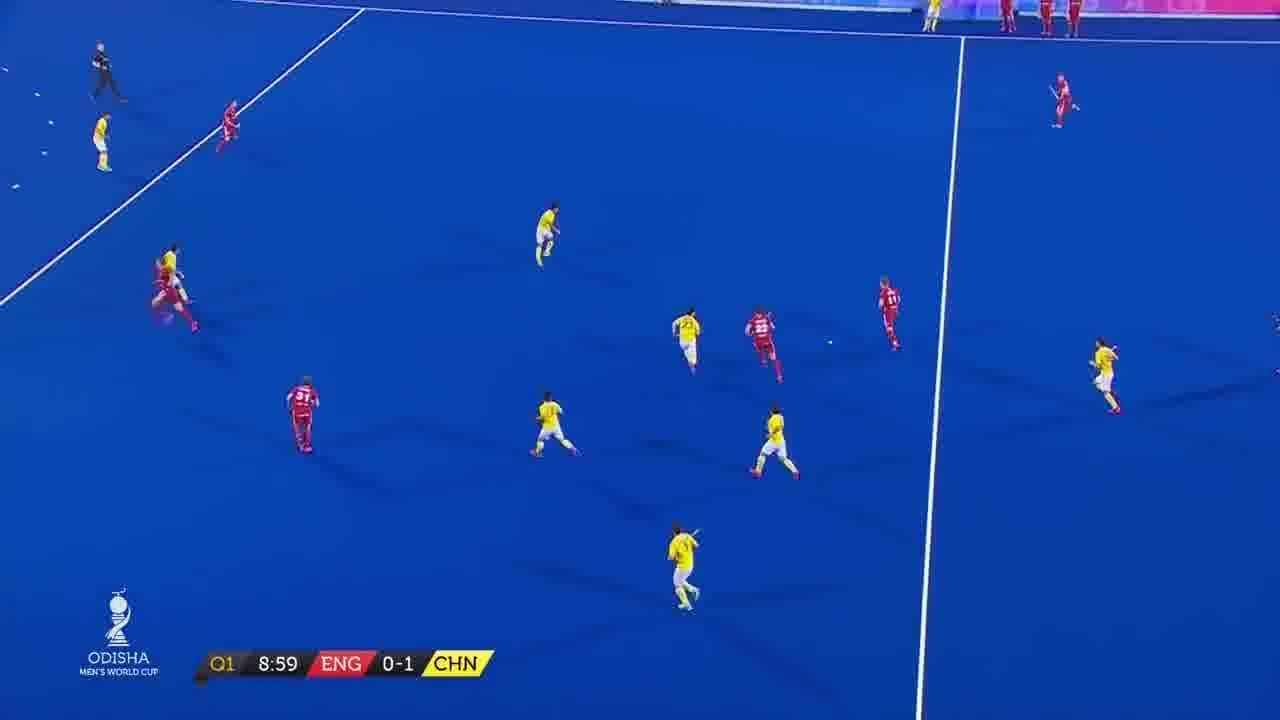ball: (824, 335, 839, 348)
